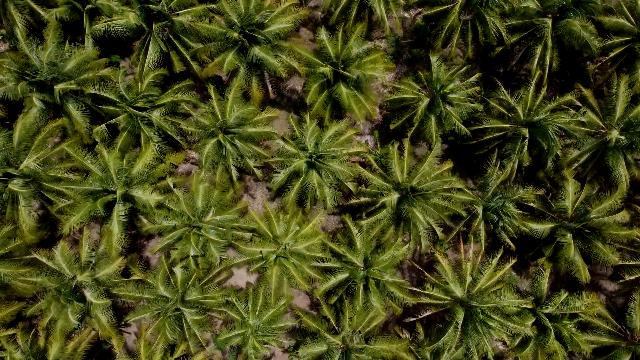trees: (8, 219, 164, 356), (350, 133, 473, 255), (465, 71, 599, 177), (519, 166, 638, 283), (167, 1, 309, 95), (316, 210, 424, 331), (172, 72, 284, 188), (88, 58, 199, 169), (127, 242, 237, 354), (3, 6, 120, 106), (492, 3, 630, 86), (230, 196, 336, 303), (298, 13, 397, 127), (551, 68, 639, 193), (270, 109, 373, 215), (381, 49, 487, 149), (143, 171, 251, 267), (425, 258, 517, 360), (516, 281, 622, 359), (1, 116, 61, 249), (213, 282, 301, 359), (302, 303, 417, 360), (129, 319, 210, 359), (2, 312, 55, 360)
